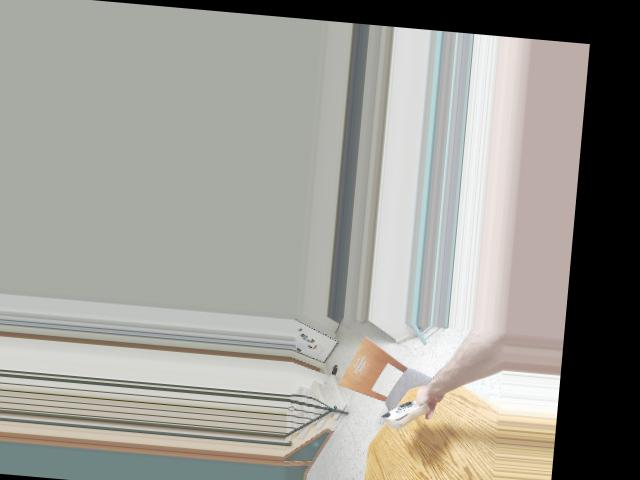cheese: (379, 394, 431, 432)
